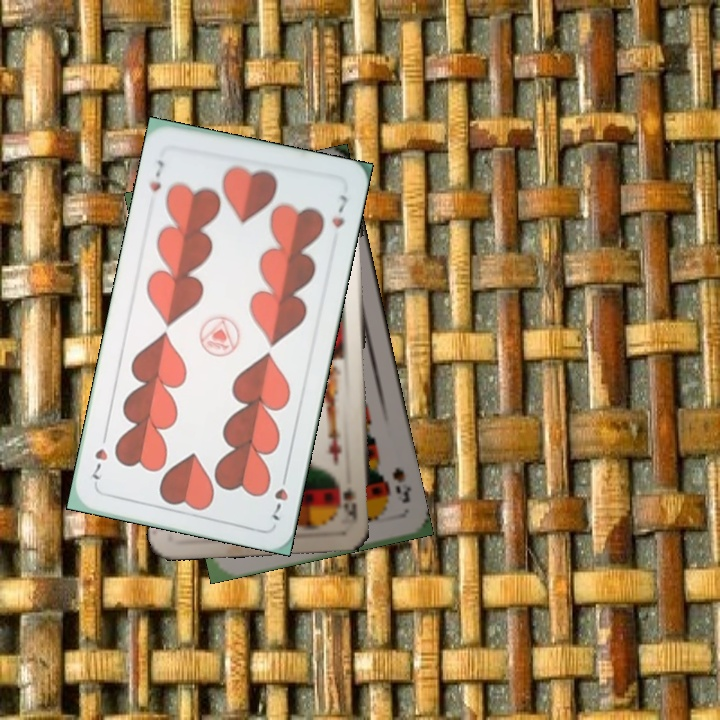H7: (267, 467, 291, 523), (145, 155, 167, 195)
S8: (388, 463, 414, 506)
SK: (339, 484, 360, 527)
